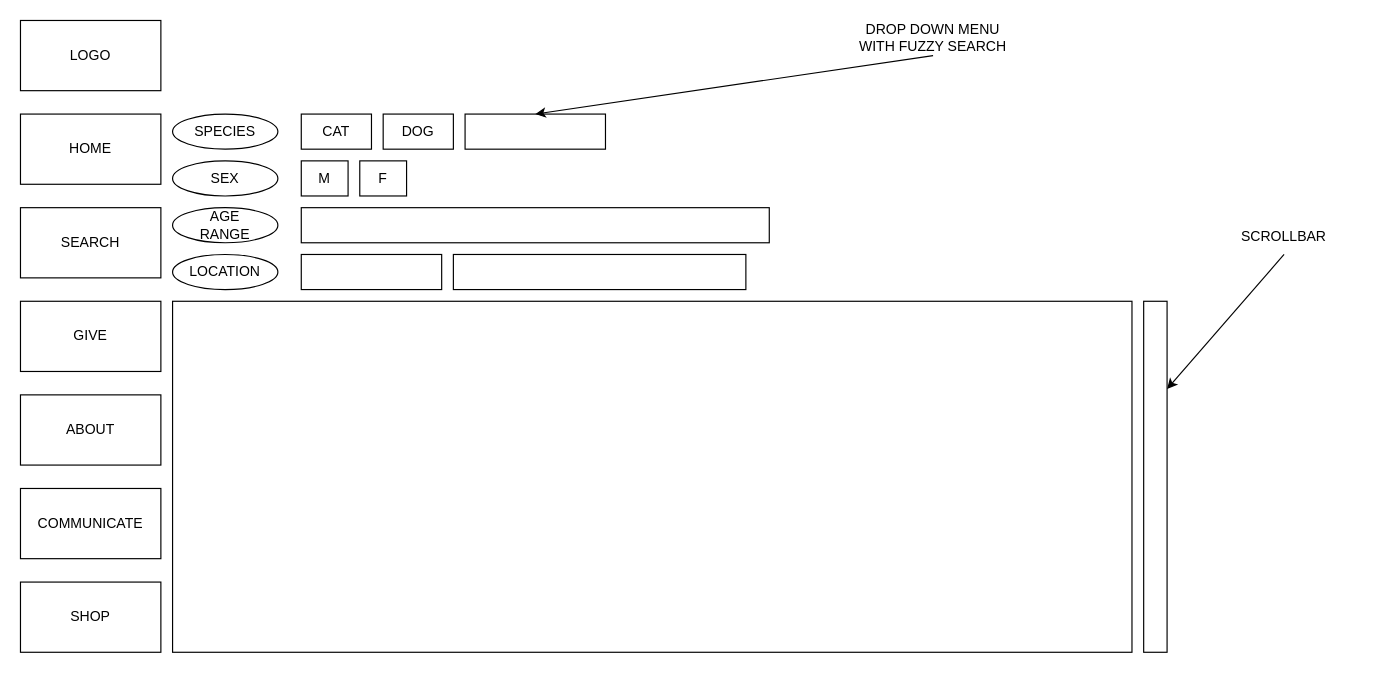
This 1398x673 diagram has some shape labels left out. Each missing label, with the box of its shape:
AIRBNB LIKE RADIUS SLIDER: (452, 253, 746, 290)
ENTER OR ALLOW: (300, 253, 442, 290)
OTHER: (464, 113, 605, 149)
SEARCH RESULTS (LIKE IN SAMPLES): (171, 300, 1132, 652)
SLIDER WITH TWO ENDPOINTS: (300, 207, 769, 243)
